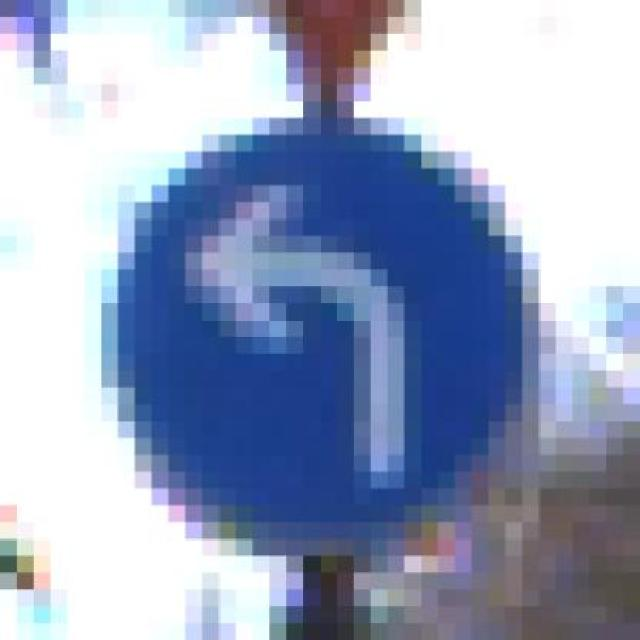Turn left ahead: (84, 101, 556, 573)
